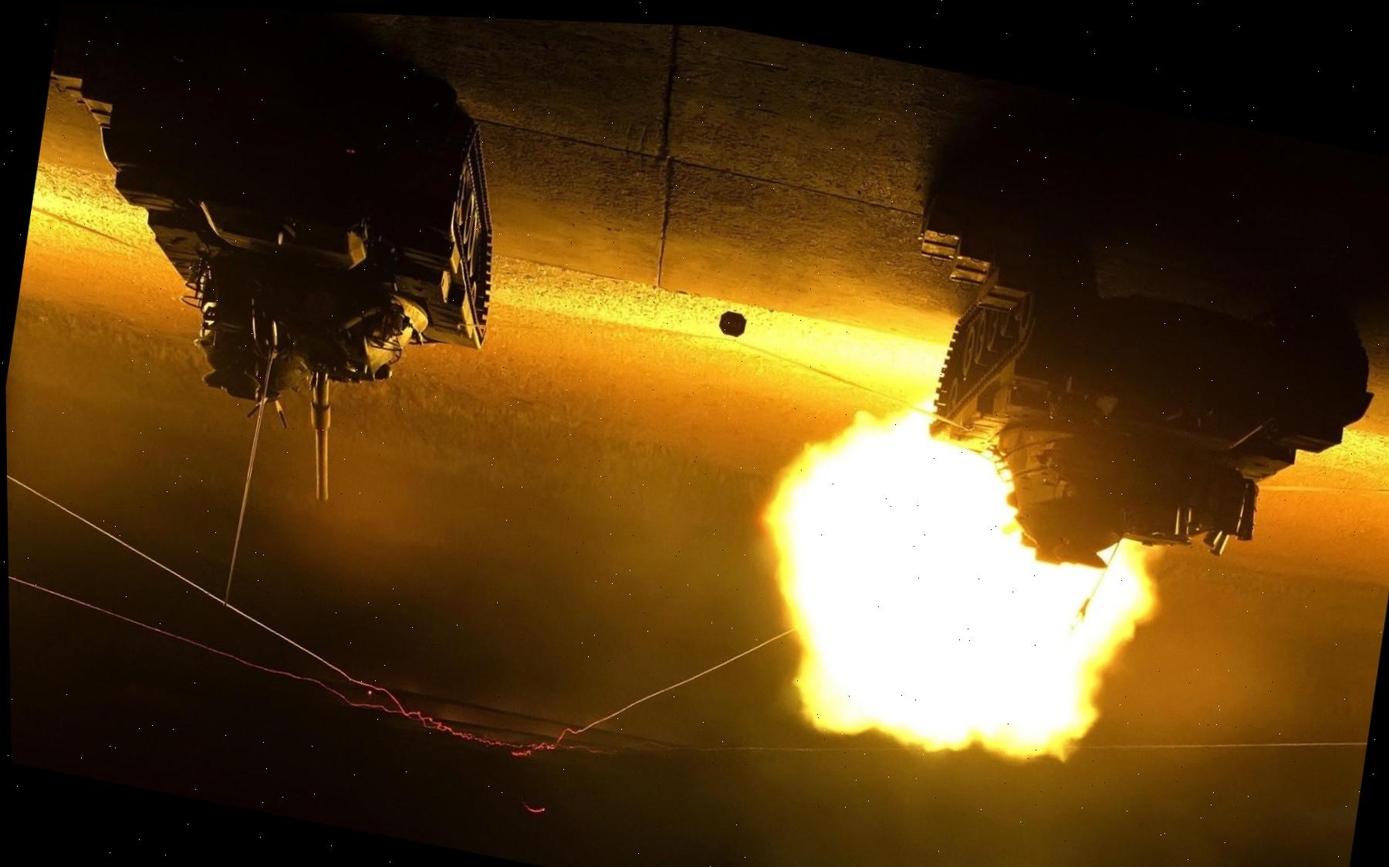tank: (43, 2, 532, 535), (905, 212, 1389, 625)
